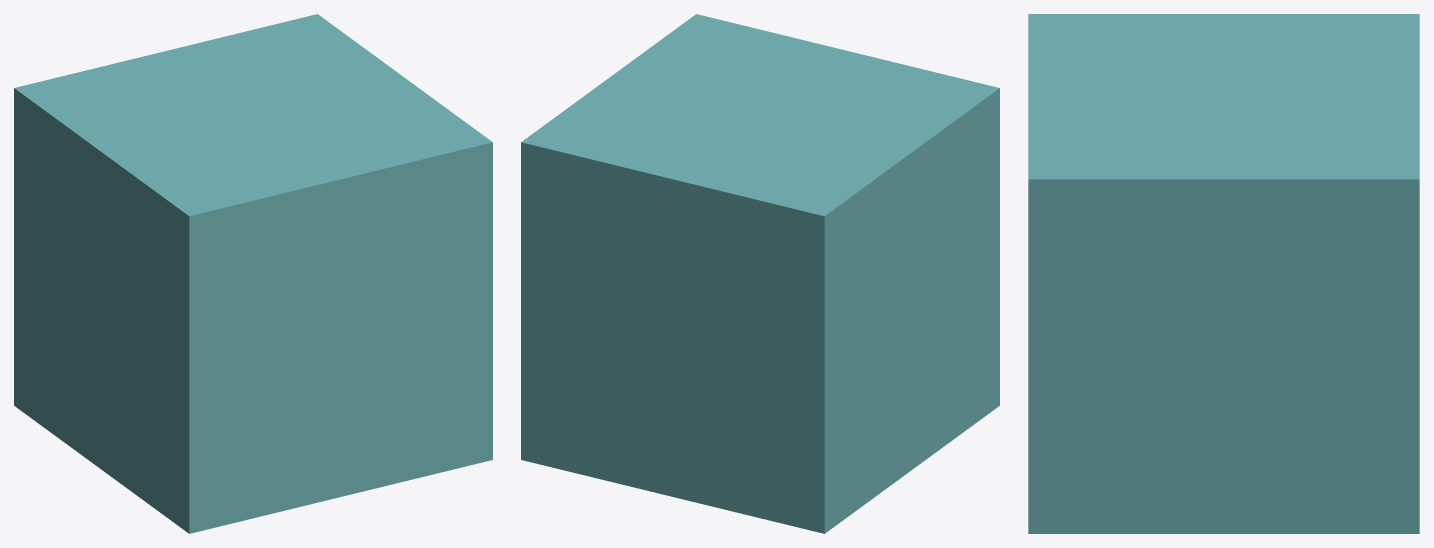
File: cubeModel.glb
3 views of the same model, side by side, from view 1: azimuth 30°, elevation 25°; view 2: azimuth 150°, elevation 25°; view 3: azimuth 270°, elevation 25° (orthographic). The views are drawn at different scales.
Parts seen in each view (by area): view 1: Cube; view 2: Cube; view 3: Cube.
Part boxes in pixels (box(x1,y1,x2,y2)): Cube: box(14, 14, 492, 533); Cube: box(521, 14, 999, 533); Cube: box(1028, 14, 1419, 533).
Bounding box in the file's own units: 2 × 2 × 2.
